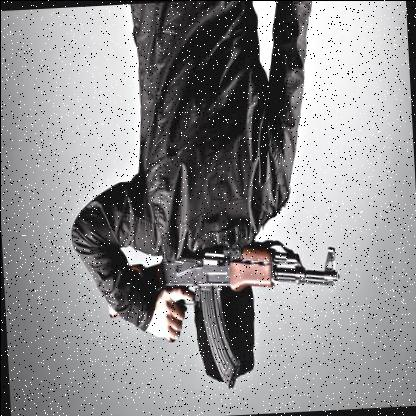rifle: (101, 216, 348, 319)
